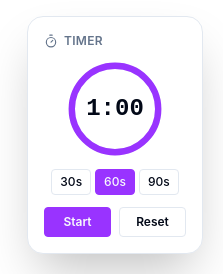
FloatingTimer › switches to 30 s when 30s button clicked
What coordinates should you click on to do the following:
click the button "30s"
I would click on:
 (71, 182)
Its box is [51,169,91,195].
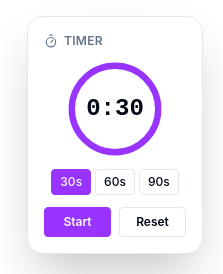
Expected: the text "0:30" is shown, [86,93,144,125]
